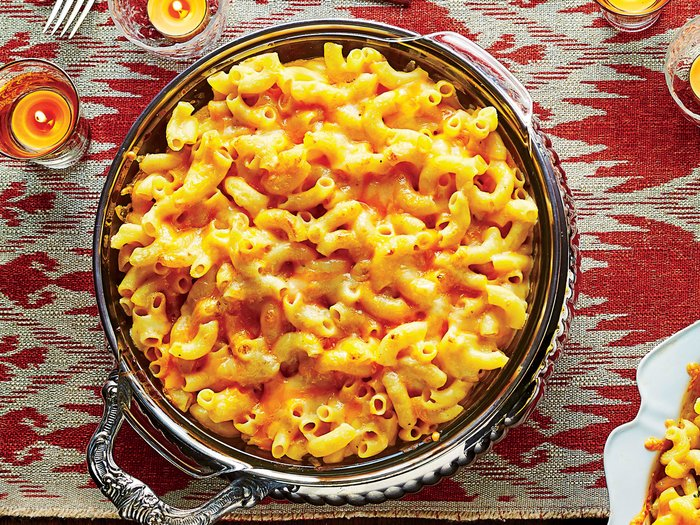macncheese: (99, 31, 580, 494)
